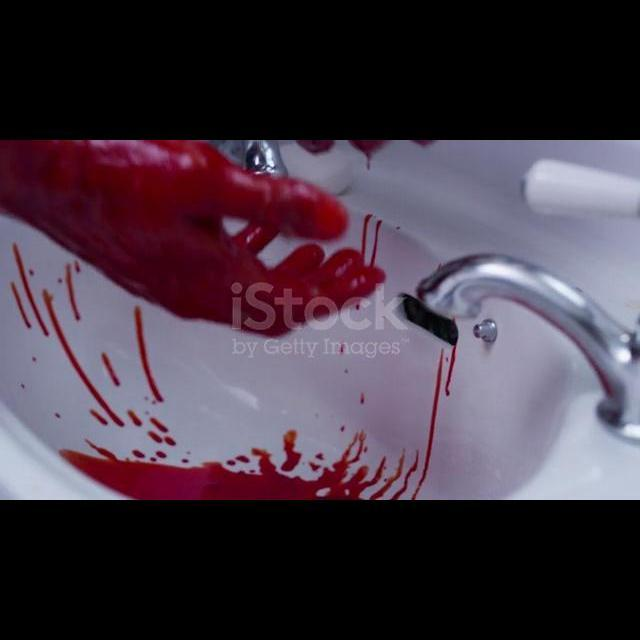blood: (0, 141, 385, 336), (60, 346, 456, 500), (41, 289, 124, 426), (12, 243, 48, 336), (133, 306, 163, 402), (350, 140, 390, 168), (64, 261, 80, 320), (10, 281, 30, 328), (223, 454, 259, 474), (362, 213, 374, 262), (102, 352, 119, 386), (370, 219, 382, 266), (132, 449, 170, 462), (147, 430, 175, 446), (297, 140, 334, 152), (89, 410, 108, 426), (149, 418, 168, 432), (127, 410, 141, 426), (413, 140, 436, 146), (341, 342, 349, 354), (360, 392, 366, 404)
